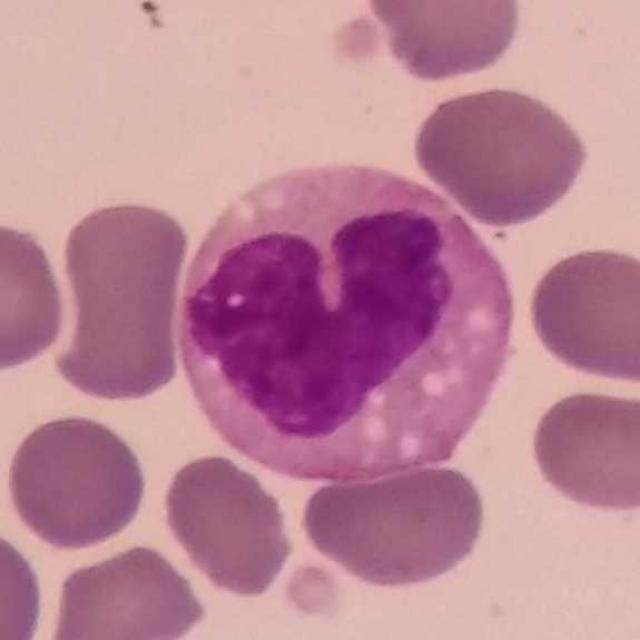Monocyte: (179, 161, 518, 489)
Platelets: (280, 560, 343, 622), (332, 13, 382, 72)
RBC: (46, 192, 192, 408), (411, 80, 592, 228), (298, 456, 492, 592), (1, 409, 153, 553), (158, 448, 298, 600), (522, 240, 640, 388), (42, 540, 212, 640), (524, 383, 640, 517), (355, 0, 527, 86), (0, 215, 72, 376), (0, 521, 49, 640)
